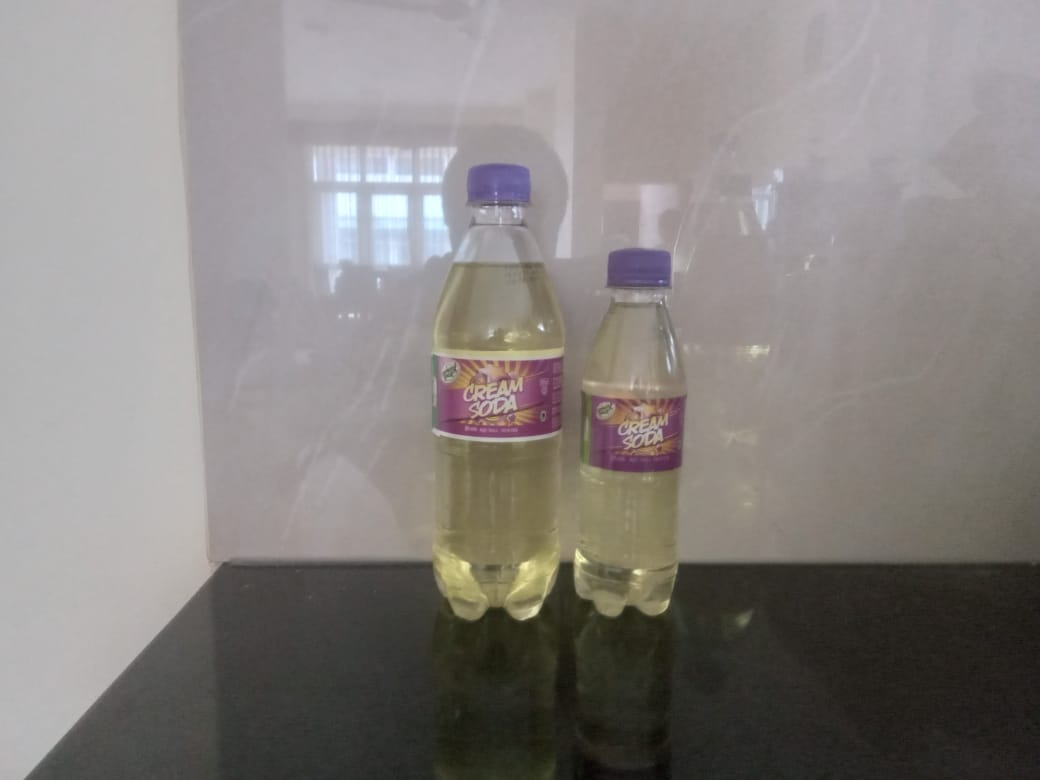S: (417, 157, 579, 634)
Xs: (570, 248, 691, 639)
